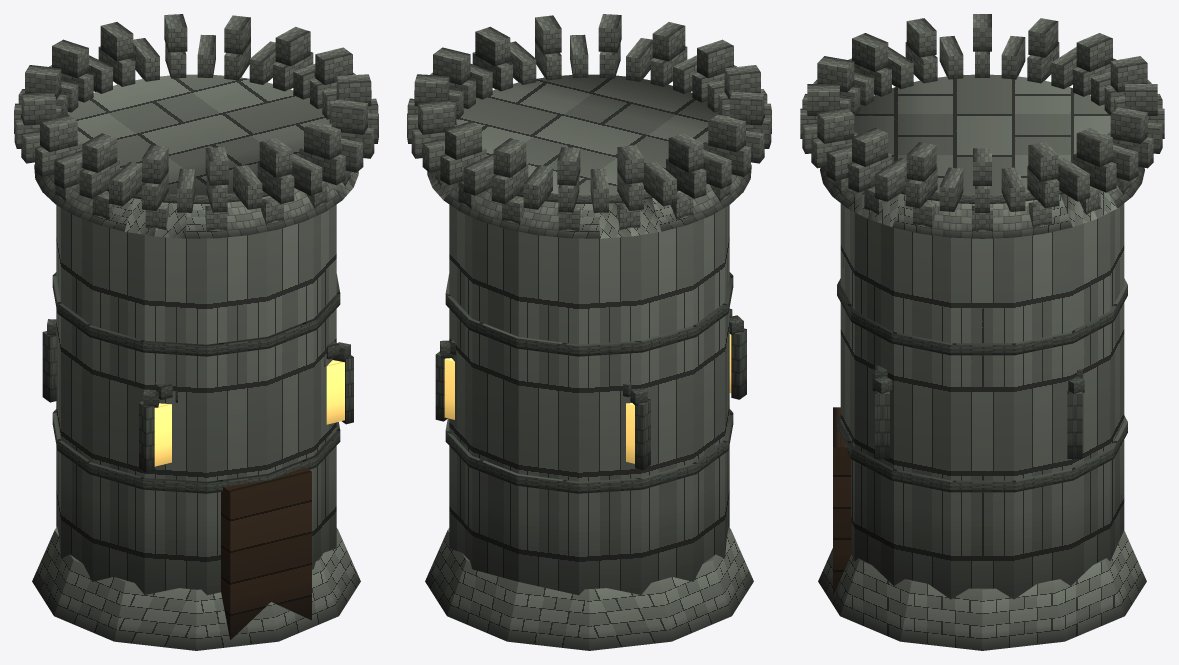
Rendered from round_keep_dark.gltf.
3 views of the same model, side by side, from view 1: azimuth 30°, elevation 25°; view 2: azimuth 150°, elevation 25°; view 3: azimuth 270°, elevation 25° (orthographic).
Parts seen in each view (by area): view 1: round_keep_dark; view 2: round_keep_dark; view 3: round_keep_dark.
Part boxes in pixels (<box>): round_keep_dark: <box>14,14,378,650</box>; round_keep_dark: <box>407,14,771,650</box>; round_keep_dark: <box>800,14,1164,650</box>.
Size of the model in its own units: 1.93 by 2.88 by 1.93.
1 material, 1 textured.
